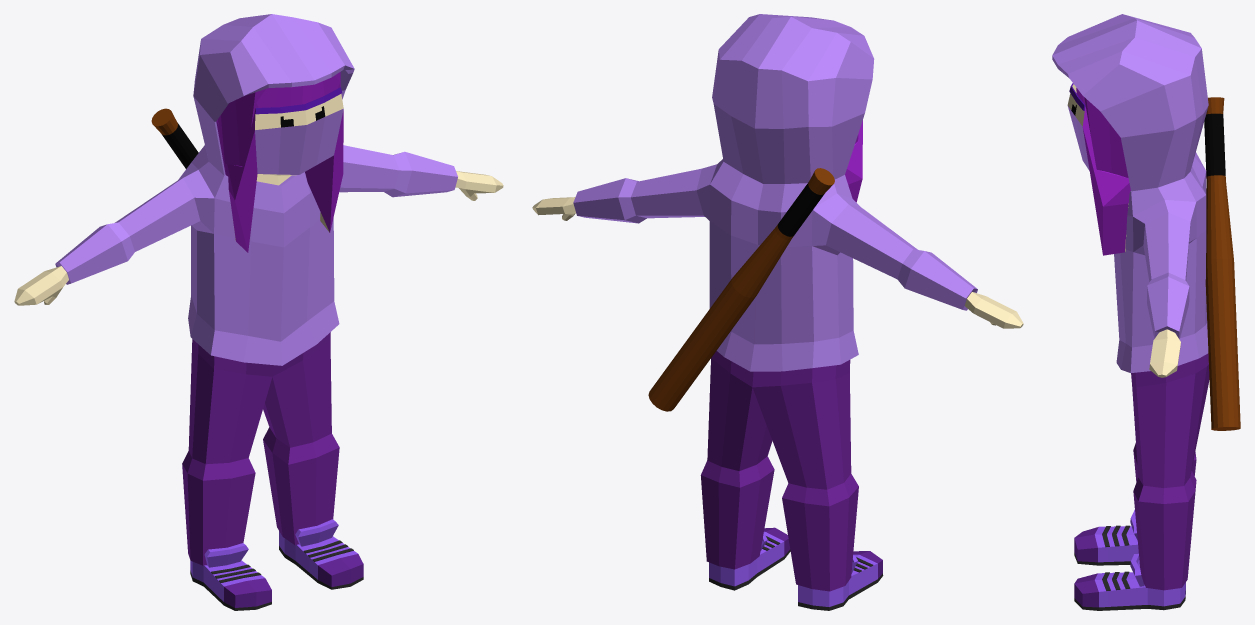
File: Character_Girl_Purple.fbx
3 views of the same model, side by side, from view 1: azimuth 30°, elevation 25°; view 2: azimuth 150°, elevation 25°; view 3: azimuth 270°, elevation 25° (orthographic).
Parts seen in each view (by area): view 1: Cube.001, Cylinder; view 2: Cube.001, Cylinder; view 3: Cube.001, Cylinder.
Part boxes in pixels (box(x1,y1,x2,y2)): Cube.001: box(14, 14, 503, 610); Cylinder: box(151, 108, 198, 168); Cube.001: box(532, 14, 1023, 610); Cylinder: box(648, 168, 834, 411); Cube.001: box(1052, 14, 1209, 610); Cylinder: box(1204, 97, 1240, 430).
Bounding box in the file's own units: 153 × 169 × 51.67.
